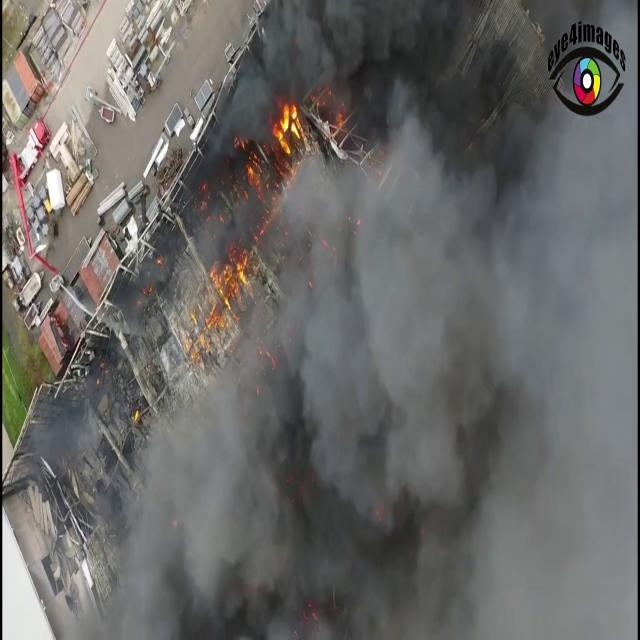Fire: (262, 93, 308, 167)
Smoke: (92, 0, 638, 636)
